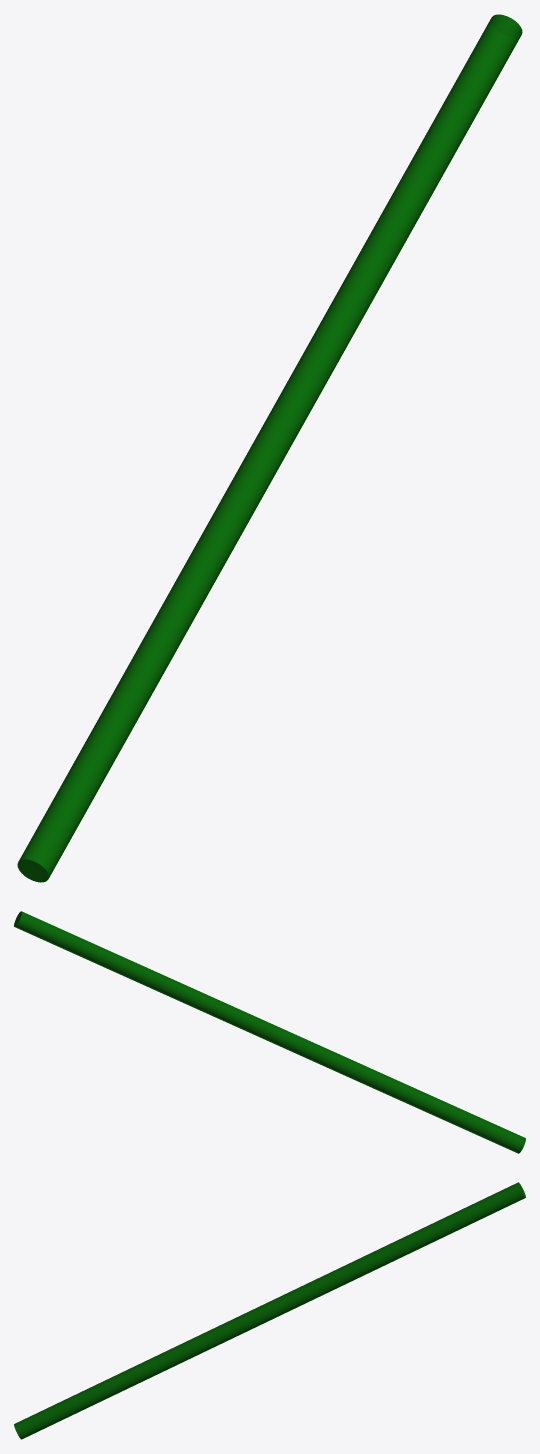
File: Event_134295681_jet_2.fbx
3 renders of one model, top to bottom at view 1: azimuth 30°, elevation 25°; view 2: azimuth 150°, elevation 25°; view 3: azimuth 330°, elevation 25°, orthographic. The views are drawn at different scales.
Visible parts, largest first — view 1: Model; view 2: Model; view 3: Model.
Part boxes in pixels (<box>): Model: <box>17,14,522,882</box>; Model: <box>14,911,525,1153</box>; Model: <box>14,1182,525,1439</box>.
Size of the model in its own units: 1.01 by 0.63 by 0.65.
